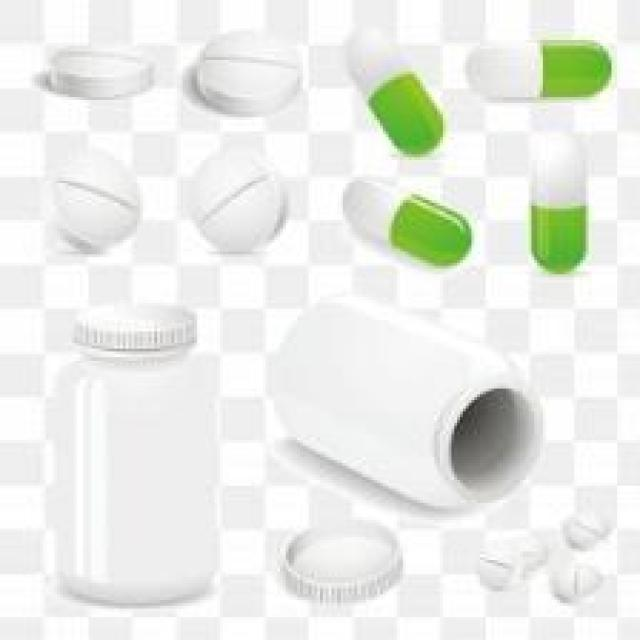Medicine: (33, 10, 640, 624)
